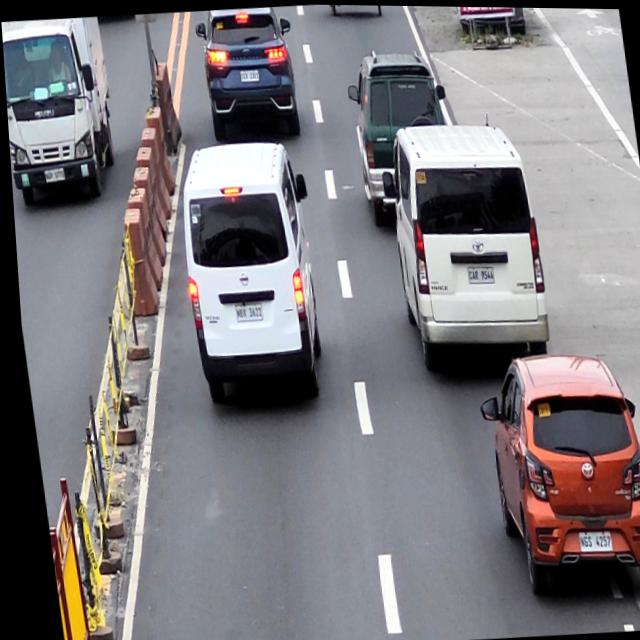Car: (372, 112, 554, 387), (466, 342, 640, 603), (166, 137, 331, 410), (339, 40, 461, 225), (188, 3, 308, 147)
License-Plate: (570, 527, 604, 553), (463, 264, 493, 285), (229, 301, 259, 321), (238, 68, 259, 80)
